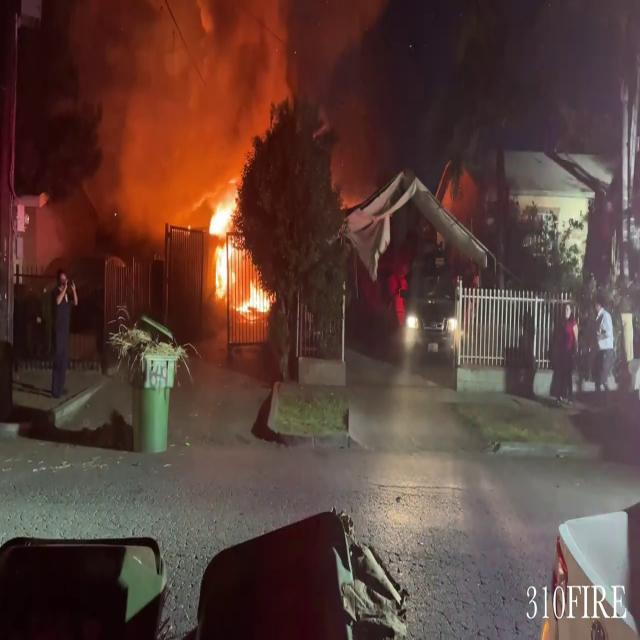Fire: (202, 176, 272, 322)
Smoke: (78, 0, 293, 215)
